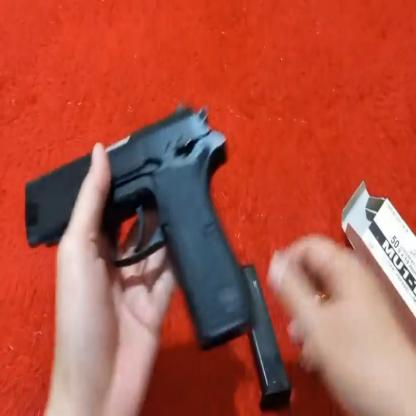handgun: (22, 101, 266, 365)
